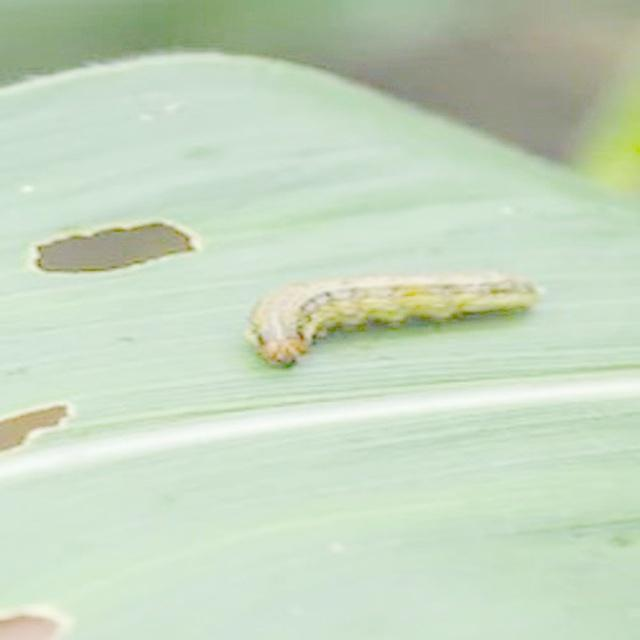gusano_cogollero: (242, 266, 538, 372)
